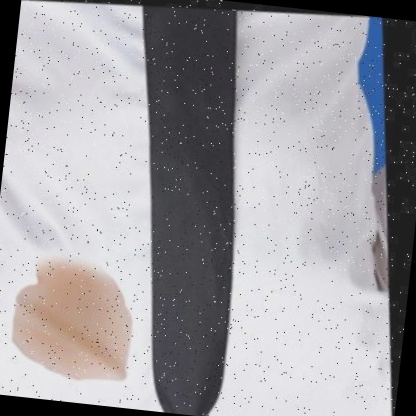coffee: (7, 255, 139, 384)
